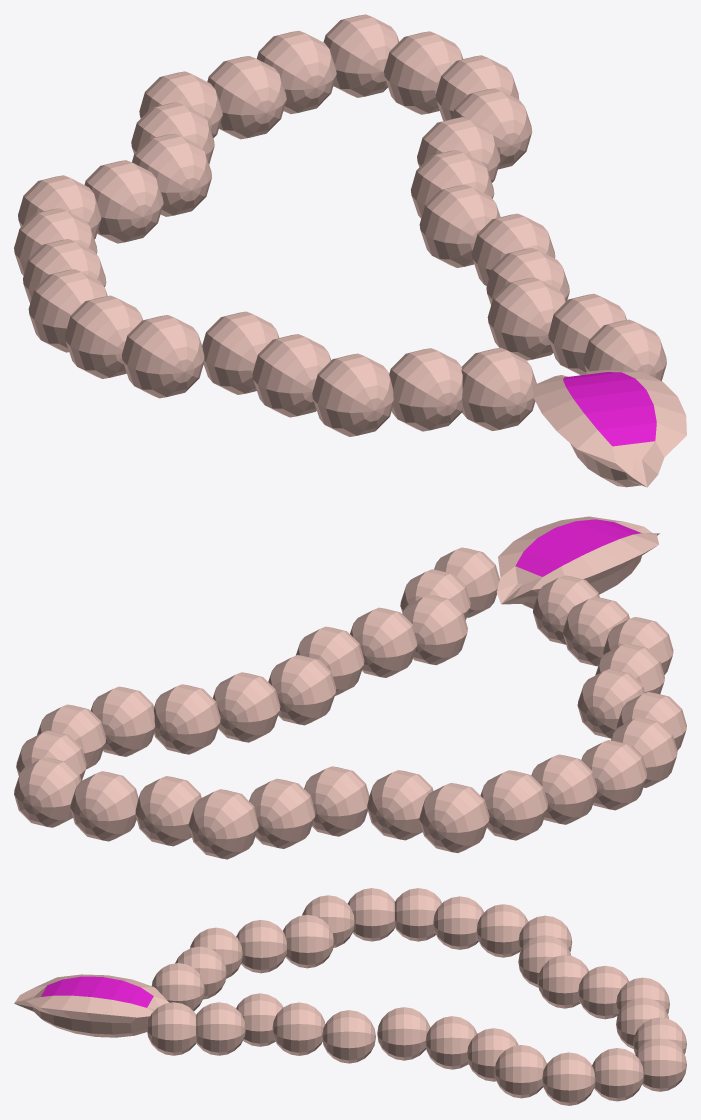
Rendered from necklace.fbx.
3 views of the same model, one above another, from view 1: azimuth 30°, elevation 25°; view 2: azimuth 150°, elevation 25°; view 3: azimuth 270°, elevation 25° (orthographic). The views are drawn at different scales.
Parts seen in each view (by area): view 1: pSphere31; view 2: pSphere31; view 3: pSphere31.
Boxes of the visible parts, x1=… form: pSphere31: x1=14, y1=14, x2=686, y2=487; pSphere31: x1=14, y1=516, x2=686, y2=859; pSphere31: x1=14, y1=888, x2=686, y2=1105.
Bounding box in the file's own units: 104 × 13.3 × 158.
